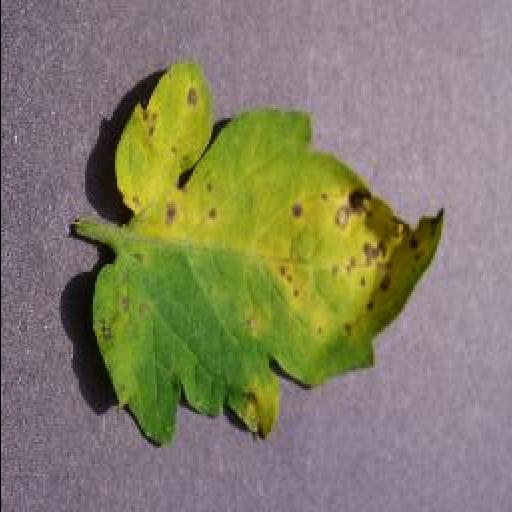disease_tomato: (86, 66, 442, 448)
